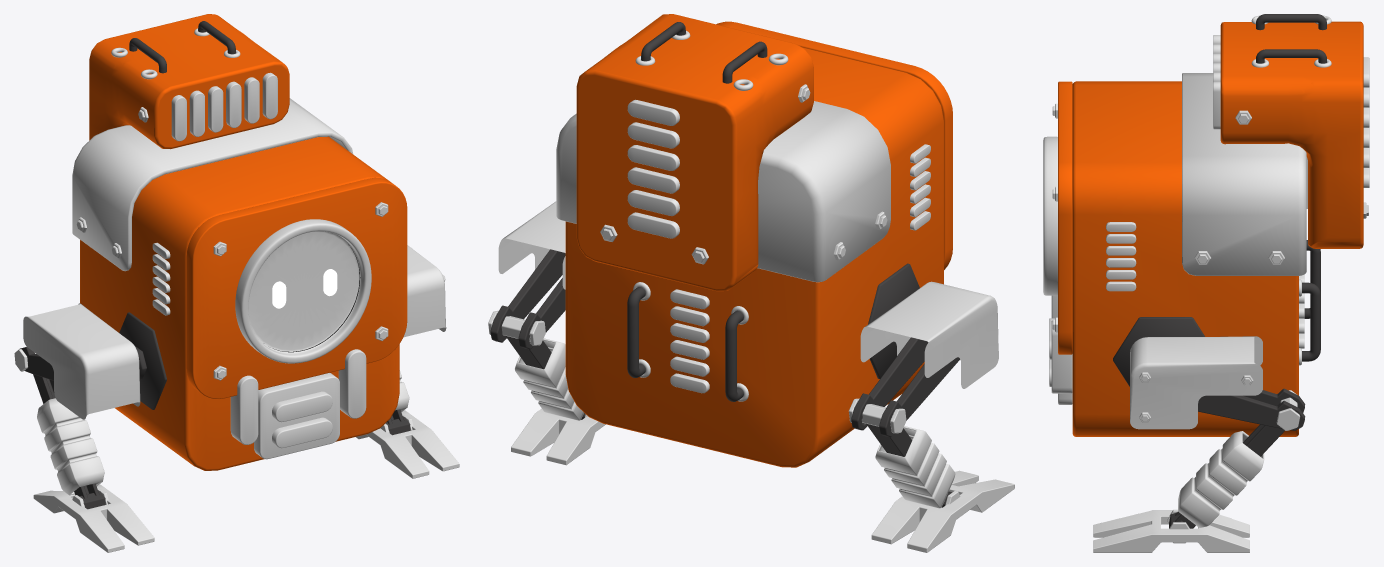
The model's file is robot.glb.
3 views of the same model, side by side, from view 1: azimuth 30°, elevation 25°; view 2: azimuth 150°, elevation 25°; view 3: azimuth 270°, elevation 25° (orthographic). The views are drawn at different scales.
Parts seen in each view (by area): view 1: Object_4, Object_8; view 2: Object_4; view 3: Object_4.
Boxes of the visible parts, x1=… form: Object_4: x1=14, y1=14, x2=459, y2=552; Object_8: x1=272, y1=269, x2=337, y2=308; Object_4: x1=488, y1=14, x2=1014, y2=552; Object_4: x1=1043, y1=14, x2=1369, y2=552.
Size of the model in its own units: 3.4 by 3.6 by 2.49.
Materials: 2 (2 with a texture image).
